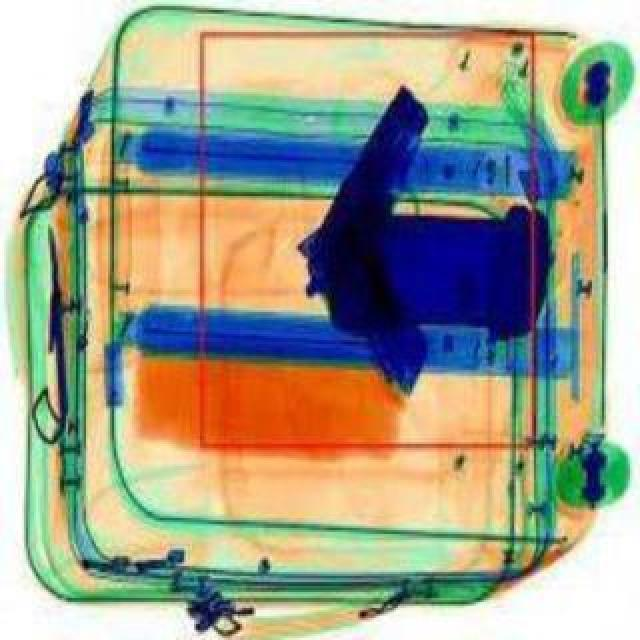gun: (302, 86, 442, 404)
